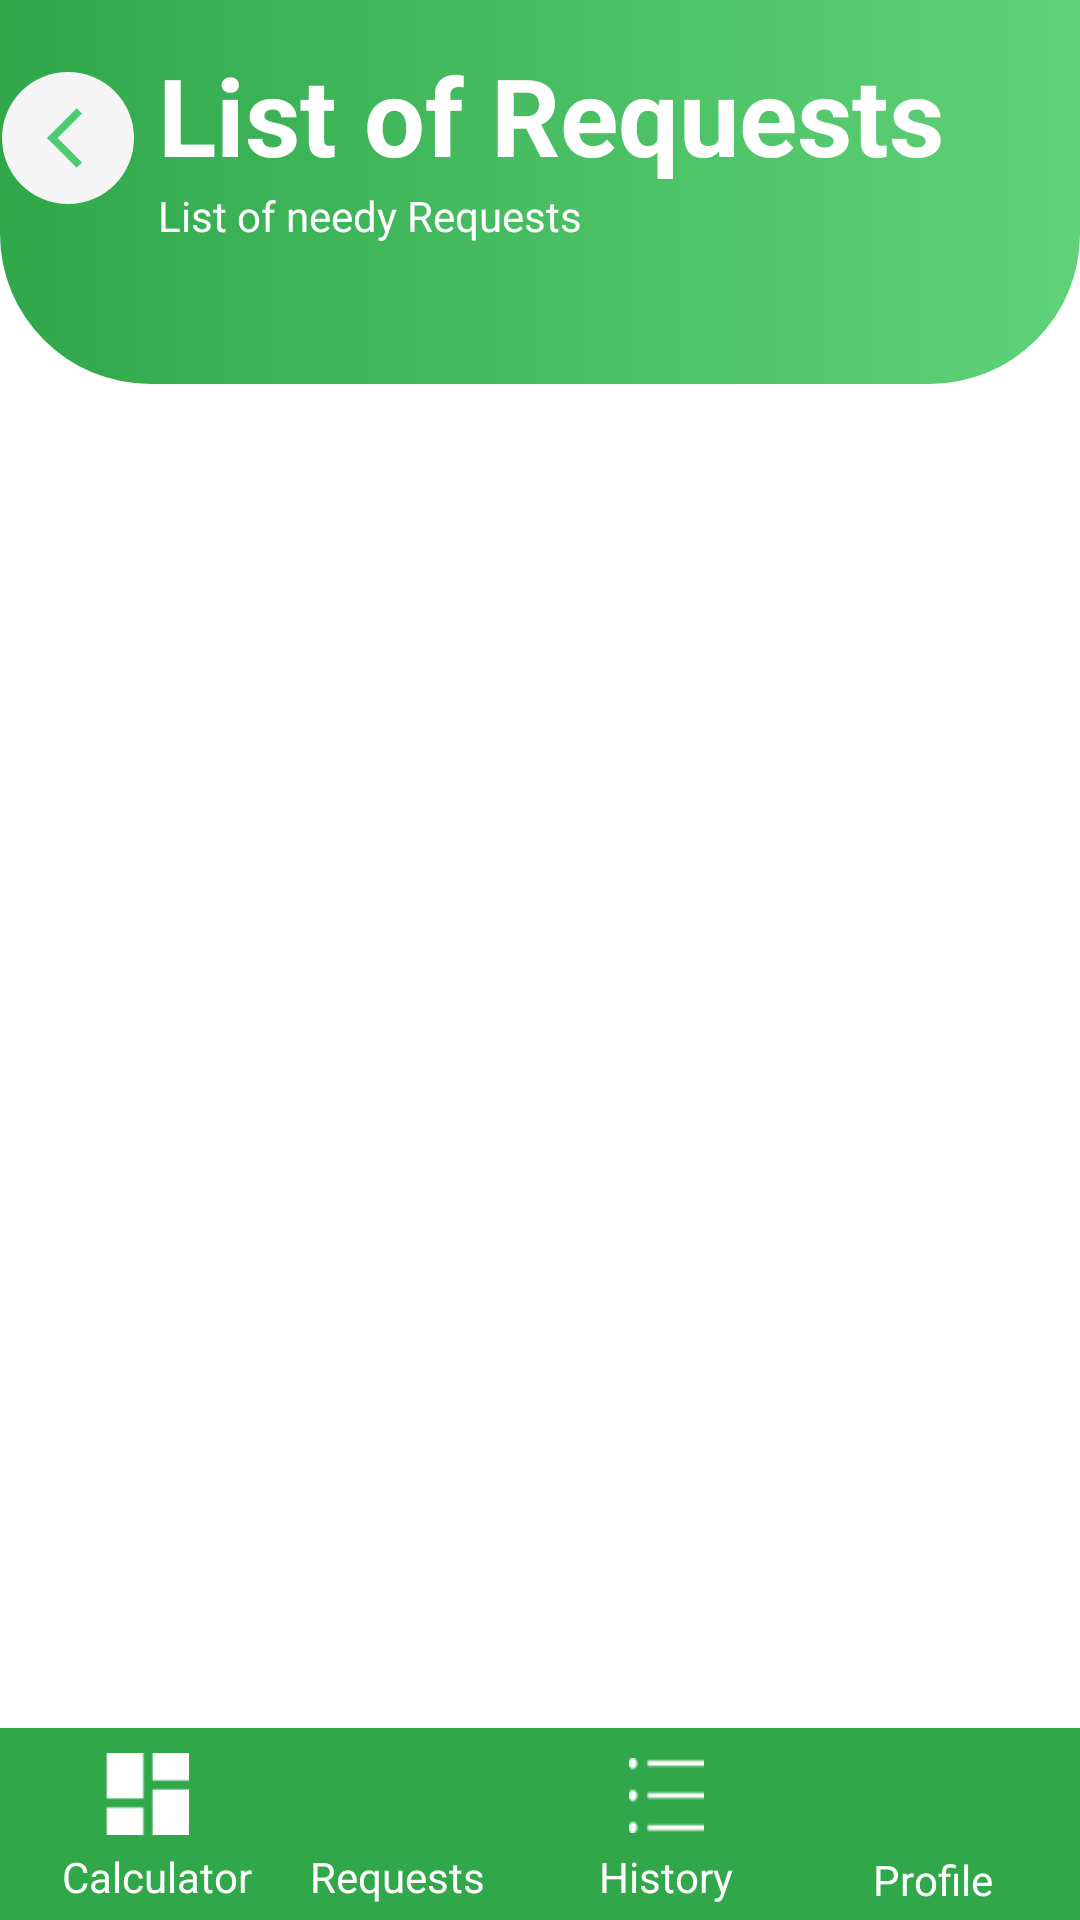

Icon bounding boxes for this 1080 × 1920 phone screenshot, format (left=x1, top=y1, right=x2, bottom=y2):
dashicon: (left=106, top=1753, right=189, bottom=1835)
list: (left=629, top=1758, right=704, bottom=1833)
